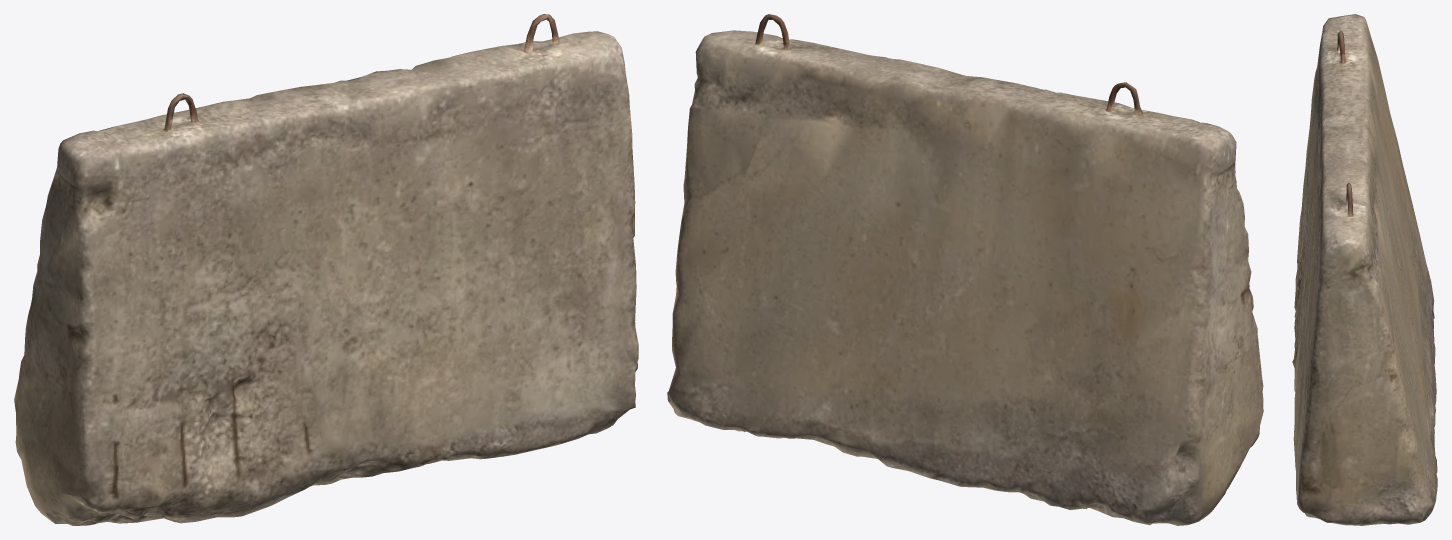
Rendered from concrete_road_barrier_02.glb.
3 renders of one model, left to right at view 1: azimuth 30°, elevation 25°; view 2: azimuth 150°, elevation 25°; view 3: azimuth 270°, elevation 25°, orthographic. The views are drawn at different scales.
Parts seen in each view (by area): view 1: concrete_road_barrier_02; view 2: concrete_road_barrier_02; view 3: concrete_road_barrier_02.
Part boxes in pixels (<box>): concrete_road_barrier_02: <box>14,14,638,525</box>; concrete_road_barrier_02: <box>667,14,1263,525</box>; concrete_road_barrier_02: <box>1292,14,1437,525</box>.
Size of the model in its own units: 1.56 by 1.11 by 0.4422.
1 material, 1 textured.
